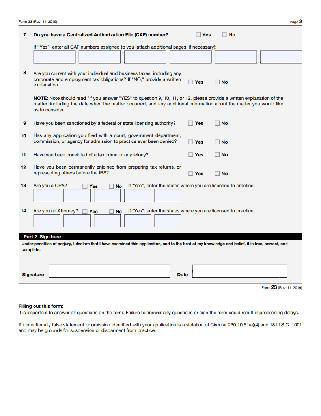checkbox: (107, 182, 115, 189), (81, 207, 88, 215), (81, 182, 88, 189), (108, 208, 115, 215), (195, 31, 202, 37), (188, 79, 195, 85), (214, 79, 221, 85), (214, 120, 221, 126), (187, 170, 194, 176), (214, 139, 221, 145), (222, 31, 228, 37), (188, 120, 194, 126), (188, 139, 194, 145), (188, 151, 194, 157), (214, 170, 220, 176), (214, 151, 220, 157)
textbox: (47, 262, 172, 279), (191, 263, 289, 279), (32, 49, 77, 65), (77, 49, 122, 65), (214, 48, 259, 64), (259, 48, 304, 64), (123, 49, 167, 65), (169, 48, 213, 64), (32, 187, 62, 204), (153, 187, 183, 204), (93, 212, 123, 229), (63, 212, 92, 229), (62, 187, 92, 203), (93, 188, 123, 204), (123, 187, 153, 203), (32, 213, 62, 229), (123, 212, 153, 228), (154, 213, 183, 229)
